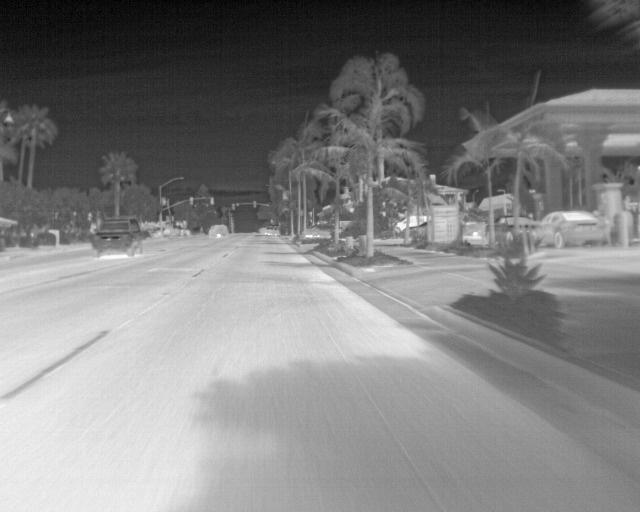car: (536, 209, 608, 251), (88, 216, 142, 259), (460, 220, 490, 250), (207, 223, 226, 238), (264, 223, 282, 238)
